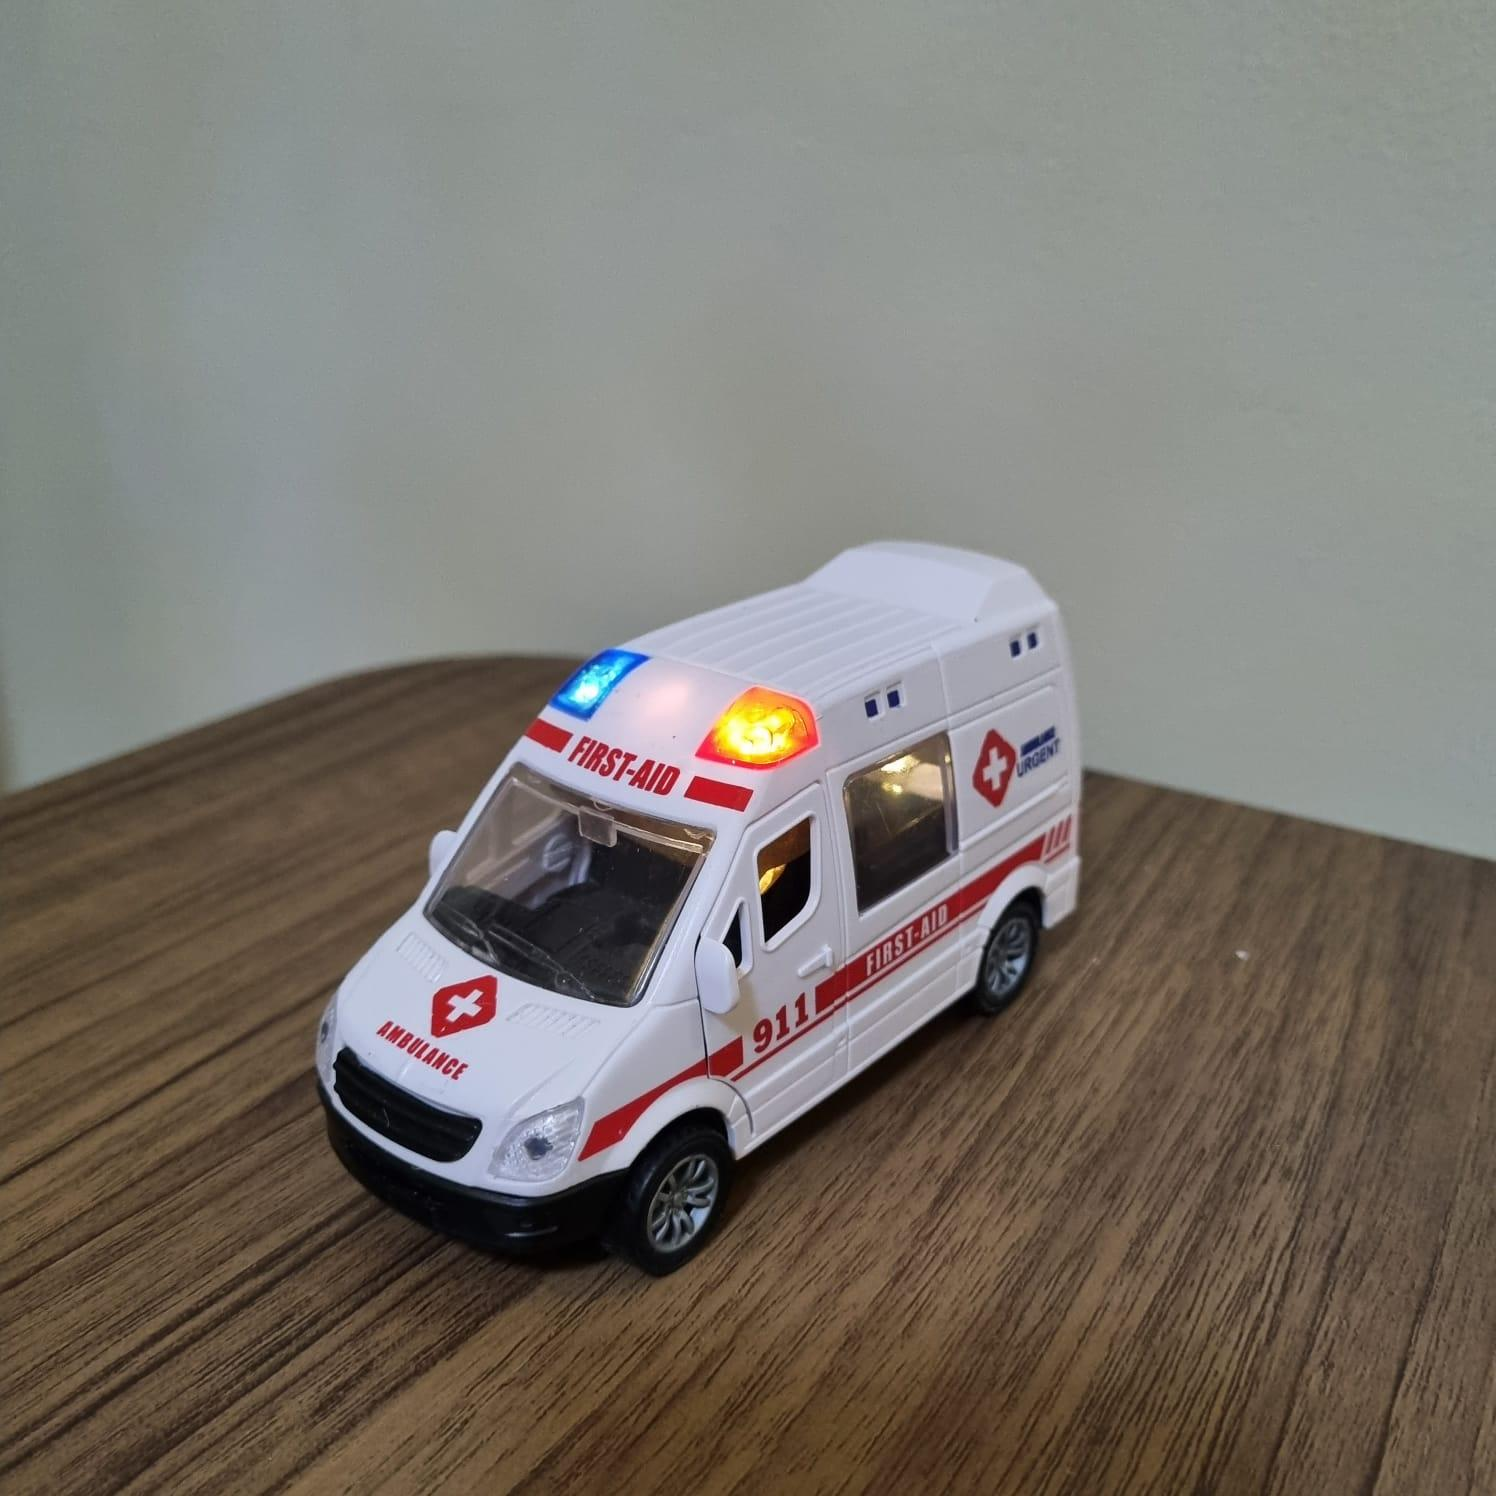ambulance_on: (311, 537, 1088, 1271)
